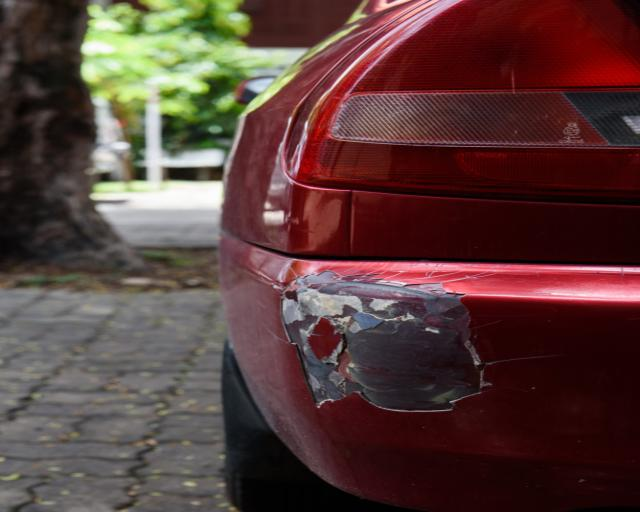scratch: (271, 269, 502, 420)
